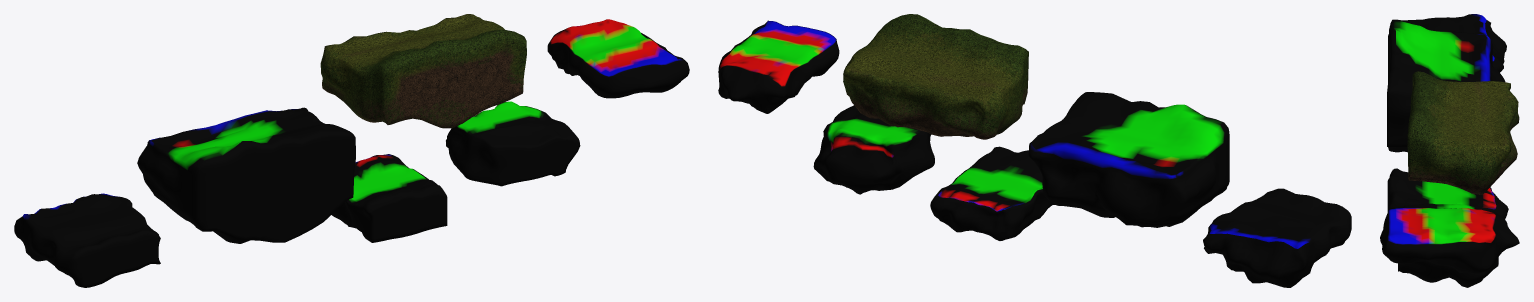
File: Nuevas Plataformas 1.fbx
The picture shows the model from 3 angles, left to right: view 1: azimuth 30°, elevation 25°; view 2: azimuth 150°, elevation 25°; view 3: azimuth 270°, elevation 25°; orthographic projection. The views are drawn at different scales.
Parts seen in each view (by area): view 1: Floor_4, PlataformaTest, Floor_5, Floor1, Floor, Floor_2; view 2: Floor_4, PlataformaTest, Floor_5, Floor_2, Floor, Floor1; view 3: PlataformaTest, Floor, Floor_4, Floor_2, Floor_5, Floor1.
Boxes of the visible parts, x1,y1,x2,y2 form: Floor_4: [137, 107, 355, 243]; PlataformaTest: [320, 14, 526, 128]; Floor_5: [14, 193, 160, 287]; Floor1: [446, 101, 580, 186]; Floor: [547, 19, 689, 98]; Floor_2: [331, 154, 447, 242]; Floor_4: [1028, 92, 1229, 227]; PlataformaTest: [843, 14, 1028, 139]; Floor_5: [1203, 188, 1351, 287]; Floor_2: [930, 146, 1055, 240]; Floor: [718, 20, 839, 113]; Floor1: [813, 105, 934, 194]; PlataformaTest: [1407, 71, 1519, 194]; Floor: [1380, 208, 1519, 273]; Floor_4: [1387, 21, 1505, 152]; Floor_2: [1387, 168, 1508, 219]; Floor_5: [1390, 14, 1506, 72]; Floor1: [1398, 203, 1498, 287].
Bounding box in the file's own units: 12362 × 3322 × 2672.
